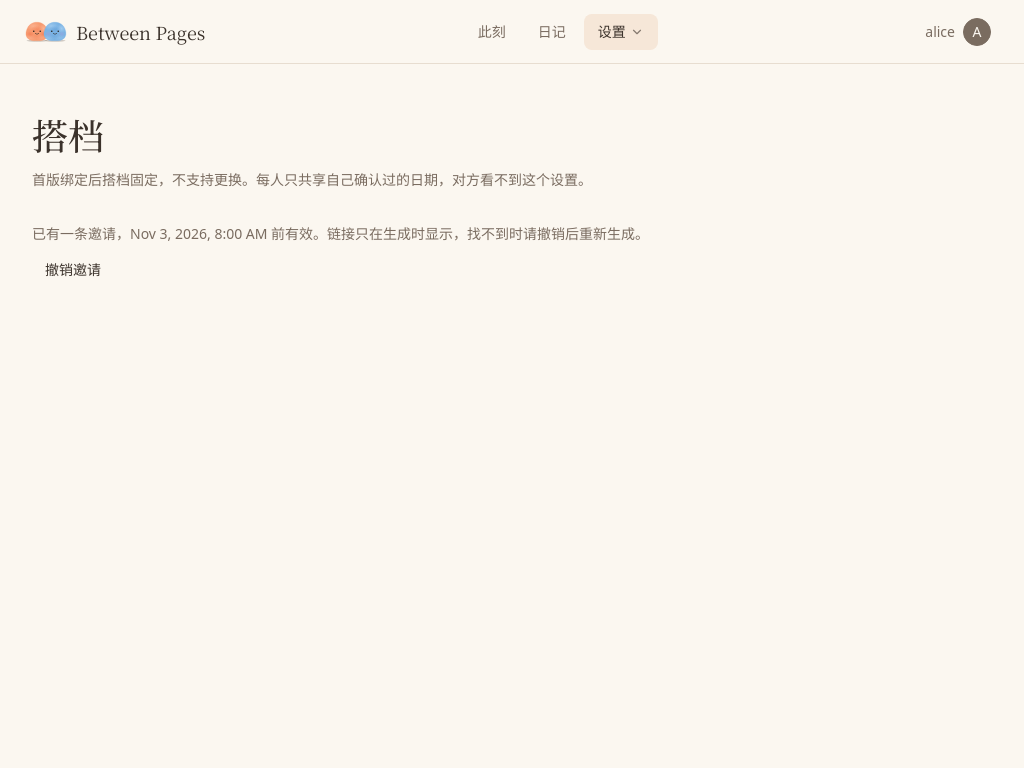
it: RelationshipPanel › revokes a pending invitation
Expected: the text "已有一条邀请，Nov 3, 2026, 8:00 AM 前有效。链接只在生成时显示，找不到时请撤销后重新生成。" is shown, [32, 224, 649, 244]
Click the button "撤销邀请": (73,270) [32, 252, 114, 288]
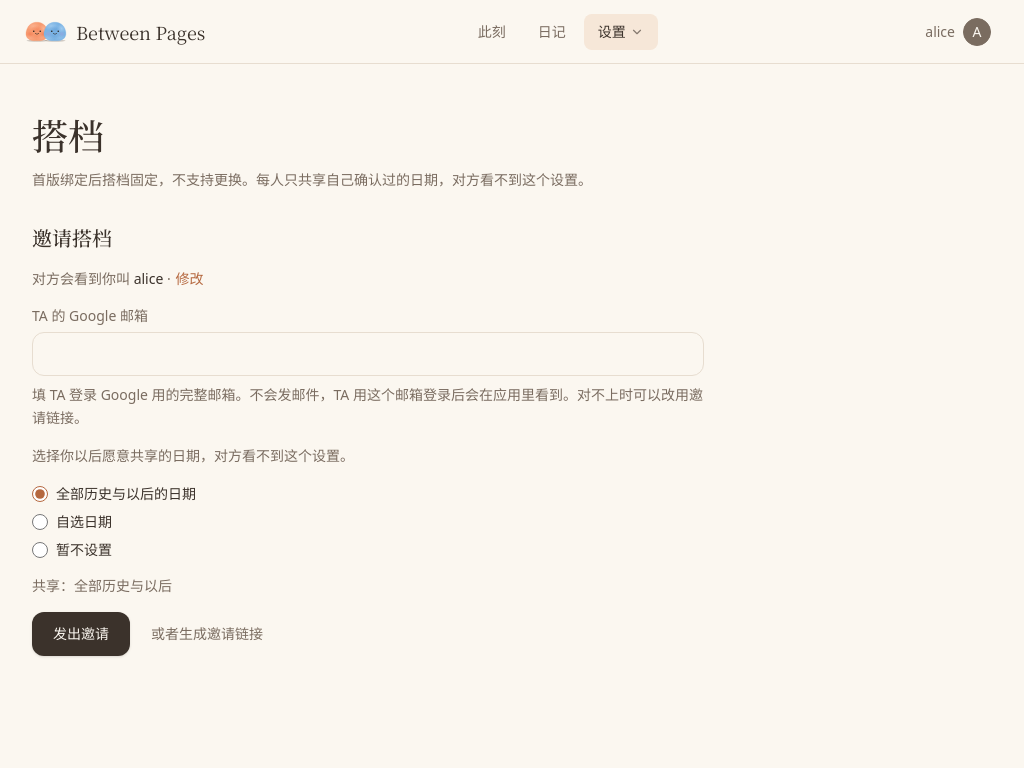
Expected: the button "或者生成邀请链接" is shown, [150, 623, 264, 645]
